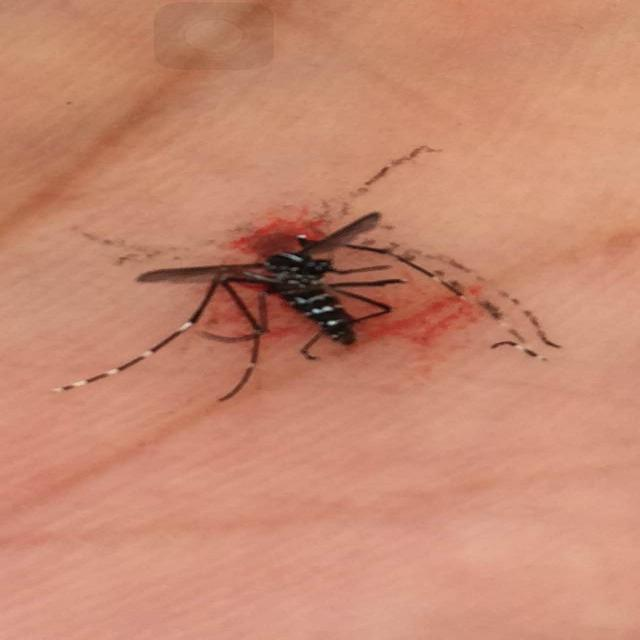albopictus: (50, 185, 535, 404)
